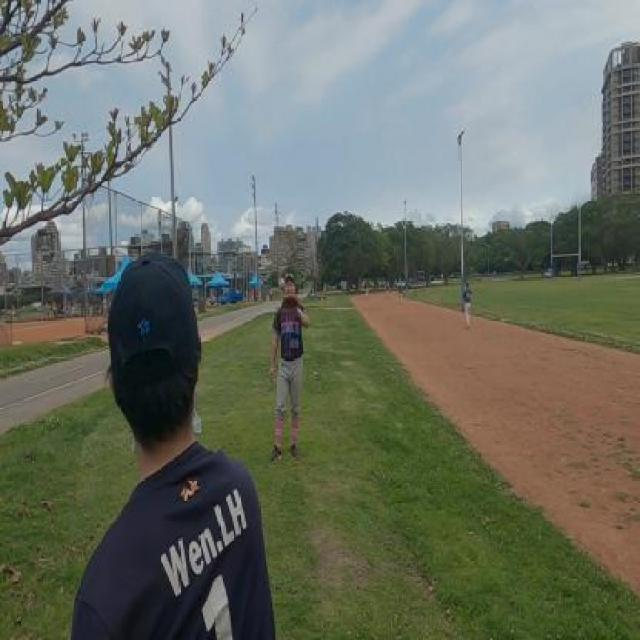baseball: (278, 278, 285, 291)
